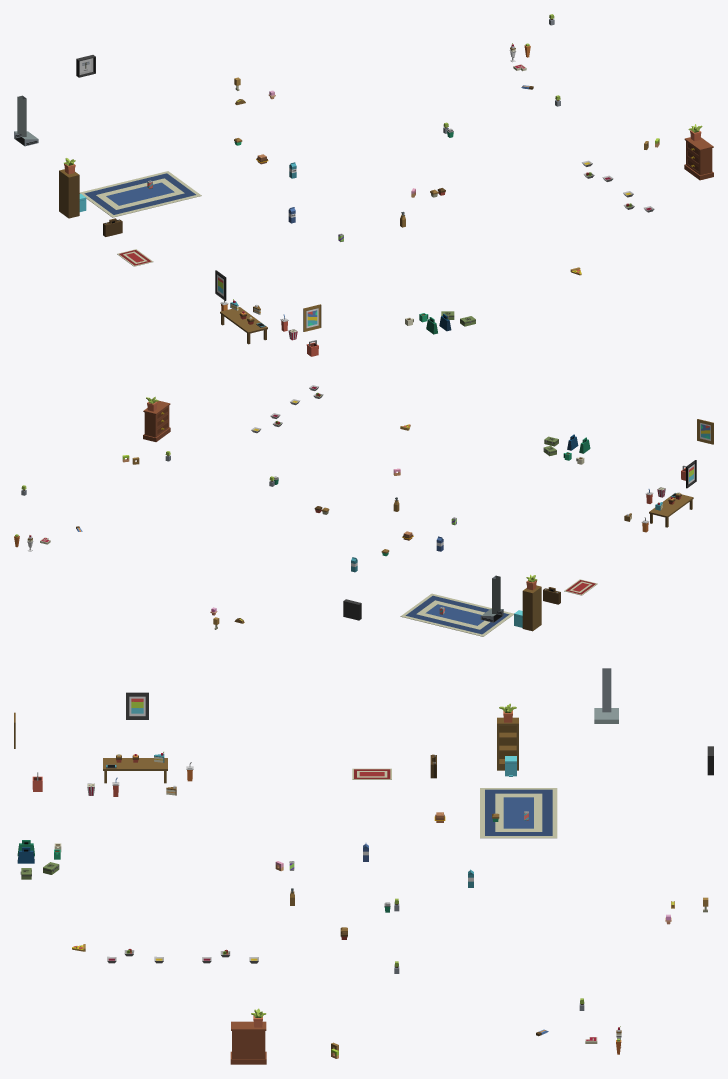
The model's file is Kitchen (1)_hub.FBX.
3 views of the same model, one above another, from view 1: azimuth 30°, elevation 25°; view 2: azimuth 150°, elevation 25°; view 3: azimuth 270°, elevation 25° (orthographic). The views are drawn at different scales.
Parts seen in each view (by area): view 1: Prop_Rug_02, Prop_Draw_02, Prop_Shelf_011, Prop_Small_Table_03 (1), Prop_RangeHood; view 2: Prop_Rug_02, Prop_Draw_02, Prop_Shelf_011, Prop_Small_Table_03 (1), Prop_RangeHood; view 3: Prop_Rug_02, Prop_Draw_02, Prop_Shelf_011, Prop_Small_Table_03 (1), Prop_RangeHood, Prop_WallArt_03.
Part boxes in pixels (x1=…): Prop_Rug_02: x1=79, y1=171, x2=201, y2=217; Prop_Draw_02: x1=684, y1=137, x2=713, y2=180; Prop_Shelf_011: x1=59, y1=169, x2=79, y2=218; Prop_Small_Table_03 (1): x1=220, y1=307, x2=267, y2=344; Prop_RangeHood: x1=14, y1=95, x2=38, y2=146; Prop_Rug_02: x1=400, y1=593, x2=513, y2=636; Prop_Draw_02: x1=143, y1=400, x2=170, y2=441; Prop_Shelf_011: x1=522, y1=585, x2=541, y2=631; Prop_Small_Table_03 (1): x1=649, y1=493, x2=693, y2=527; Prop_RangeHood: x1=480, y1=575, x2=503, y2=622; Prop_Rug_02: x1=480, y1=788, x2=557, y2=838; Prop_Draw_02: x1=230, y1=1021, x2=266, y2=1064; Prop_Shelf_011: x1=497, y1=717, x2=518, y2=770; Prop_Small_Table_03 (1): x1=103, y1=758, x2=167, y2=783; Prop_RangeHood: x1=594, y1=668, x2=618, y2=723; Prop_WallArt_03: x1=126, y1=692, x2=148, y2=719.
Bounding box in the file's own units: 28702 × 4538 × 28341.
Materials: 2 (2 with a texture image).
